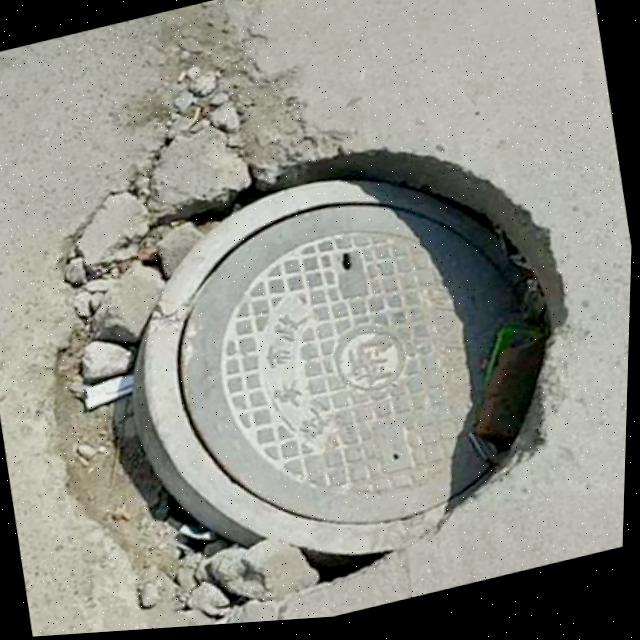manhole: (33, 89, 613, 637)
